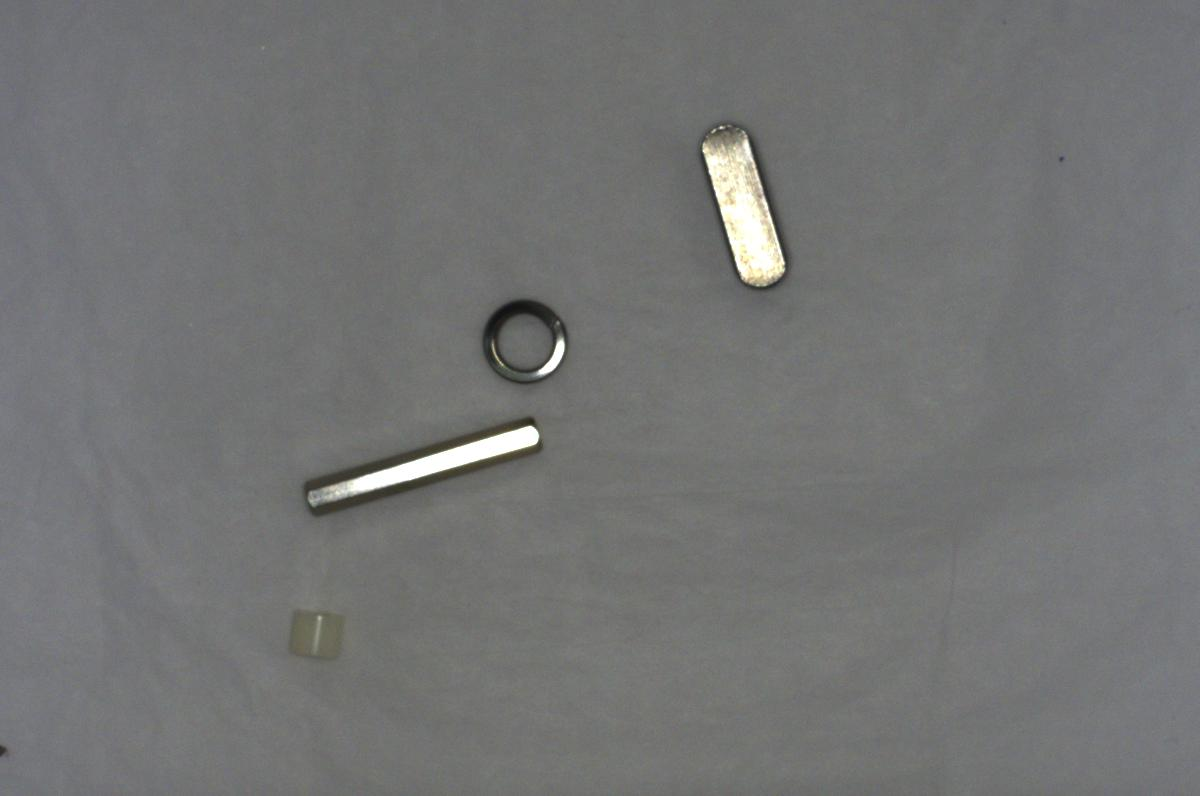Double hexagonal column: (295, 420, 555, 514)
Keybar: (692, 116, 790, 294)
Plastic cushion pillar: (274, 601, 354, 672)
Spring washer: (471, 285, 575, 382)
